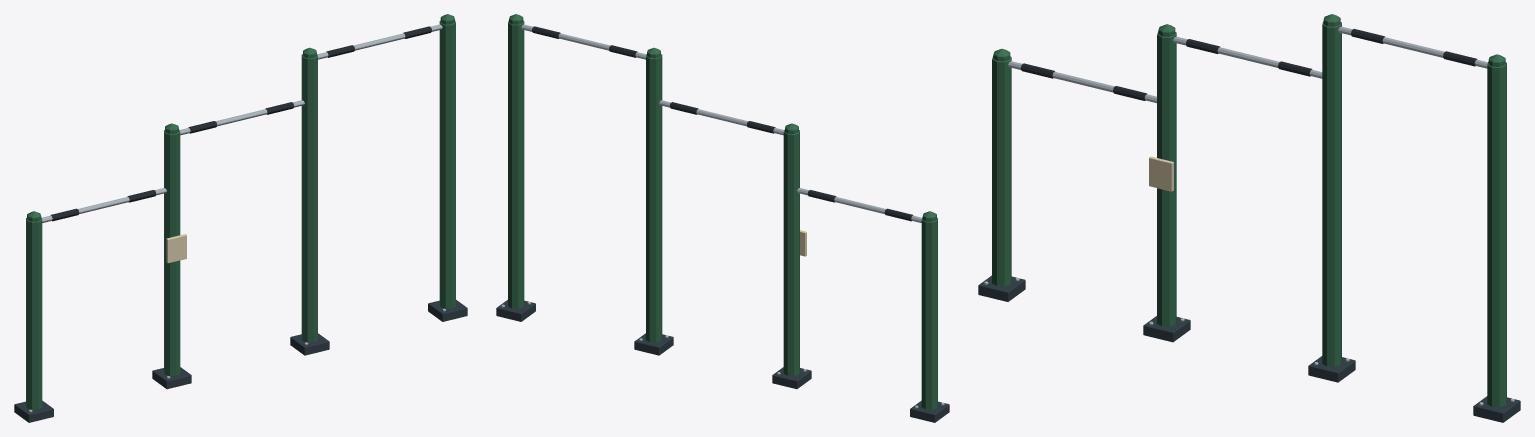
File: b09_three_height_pullup_station.glb
The picture shows the model from 3 angles, left to right: view 1: azimuth 30°, elevation 25°; view 2: azimuth 150°, elevation 25°; view 3: azimuth 330°, elevation 25°; orthographic projection. The views are drawn at different scales.
Visible parts, largest first — view 1: b09_three_height_pullup_station; view 2: b09_three_height_pullup_station; view 3: b09_three_height_pullup_station.
Boxes of the visible parts, <box> form: b09_three_height_pullup_station: <box>14,14,467,422</box>; b09_three_height_pullup_station: <box>496,14,949,422</box>; b09_three_height_pullup_station: <box>978,14,1520,422</box>.
Bounding box in the file's own units: 3.82 × 2.49 × 0.22.
